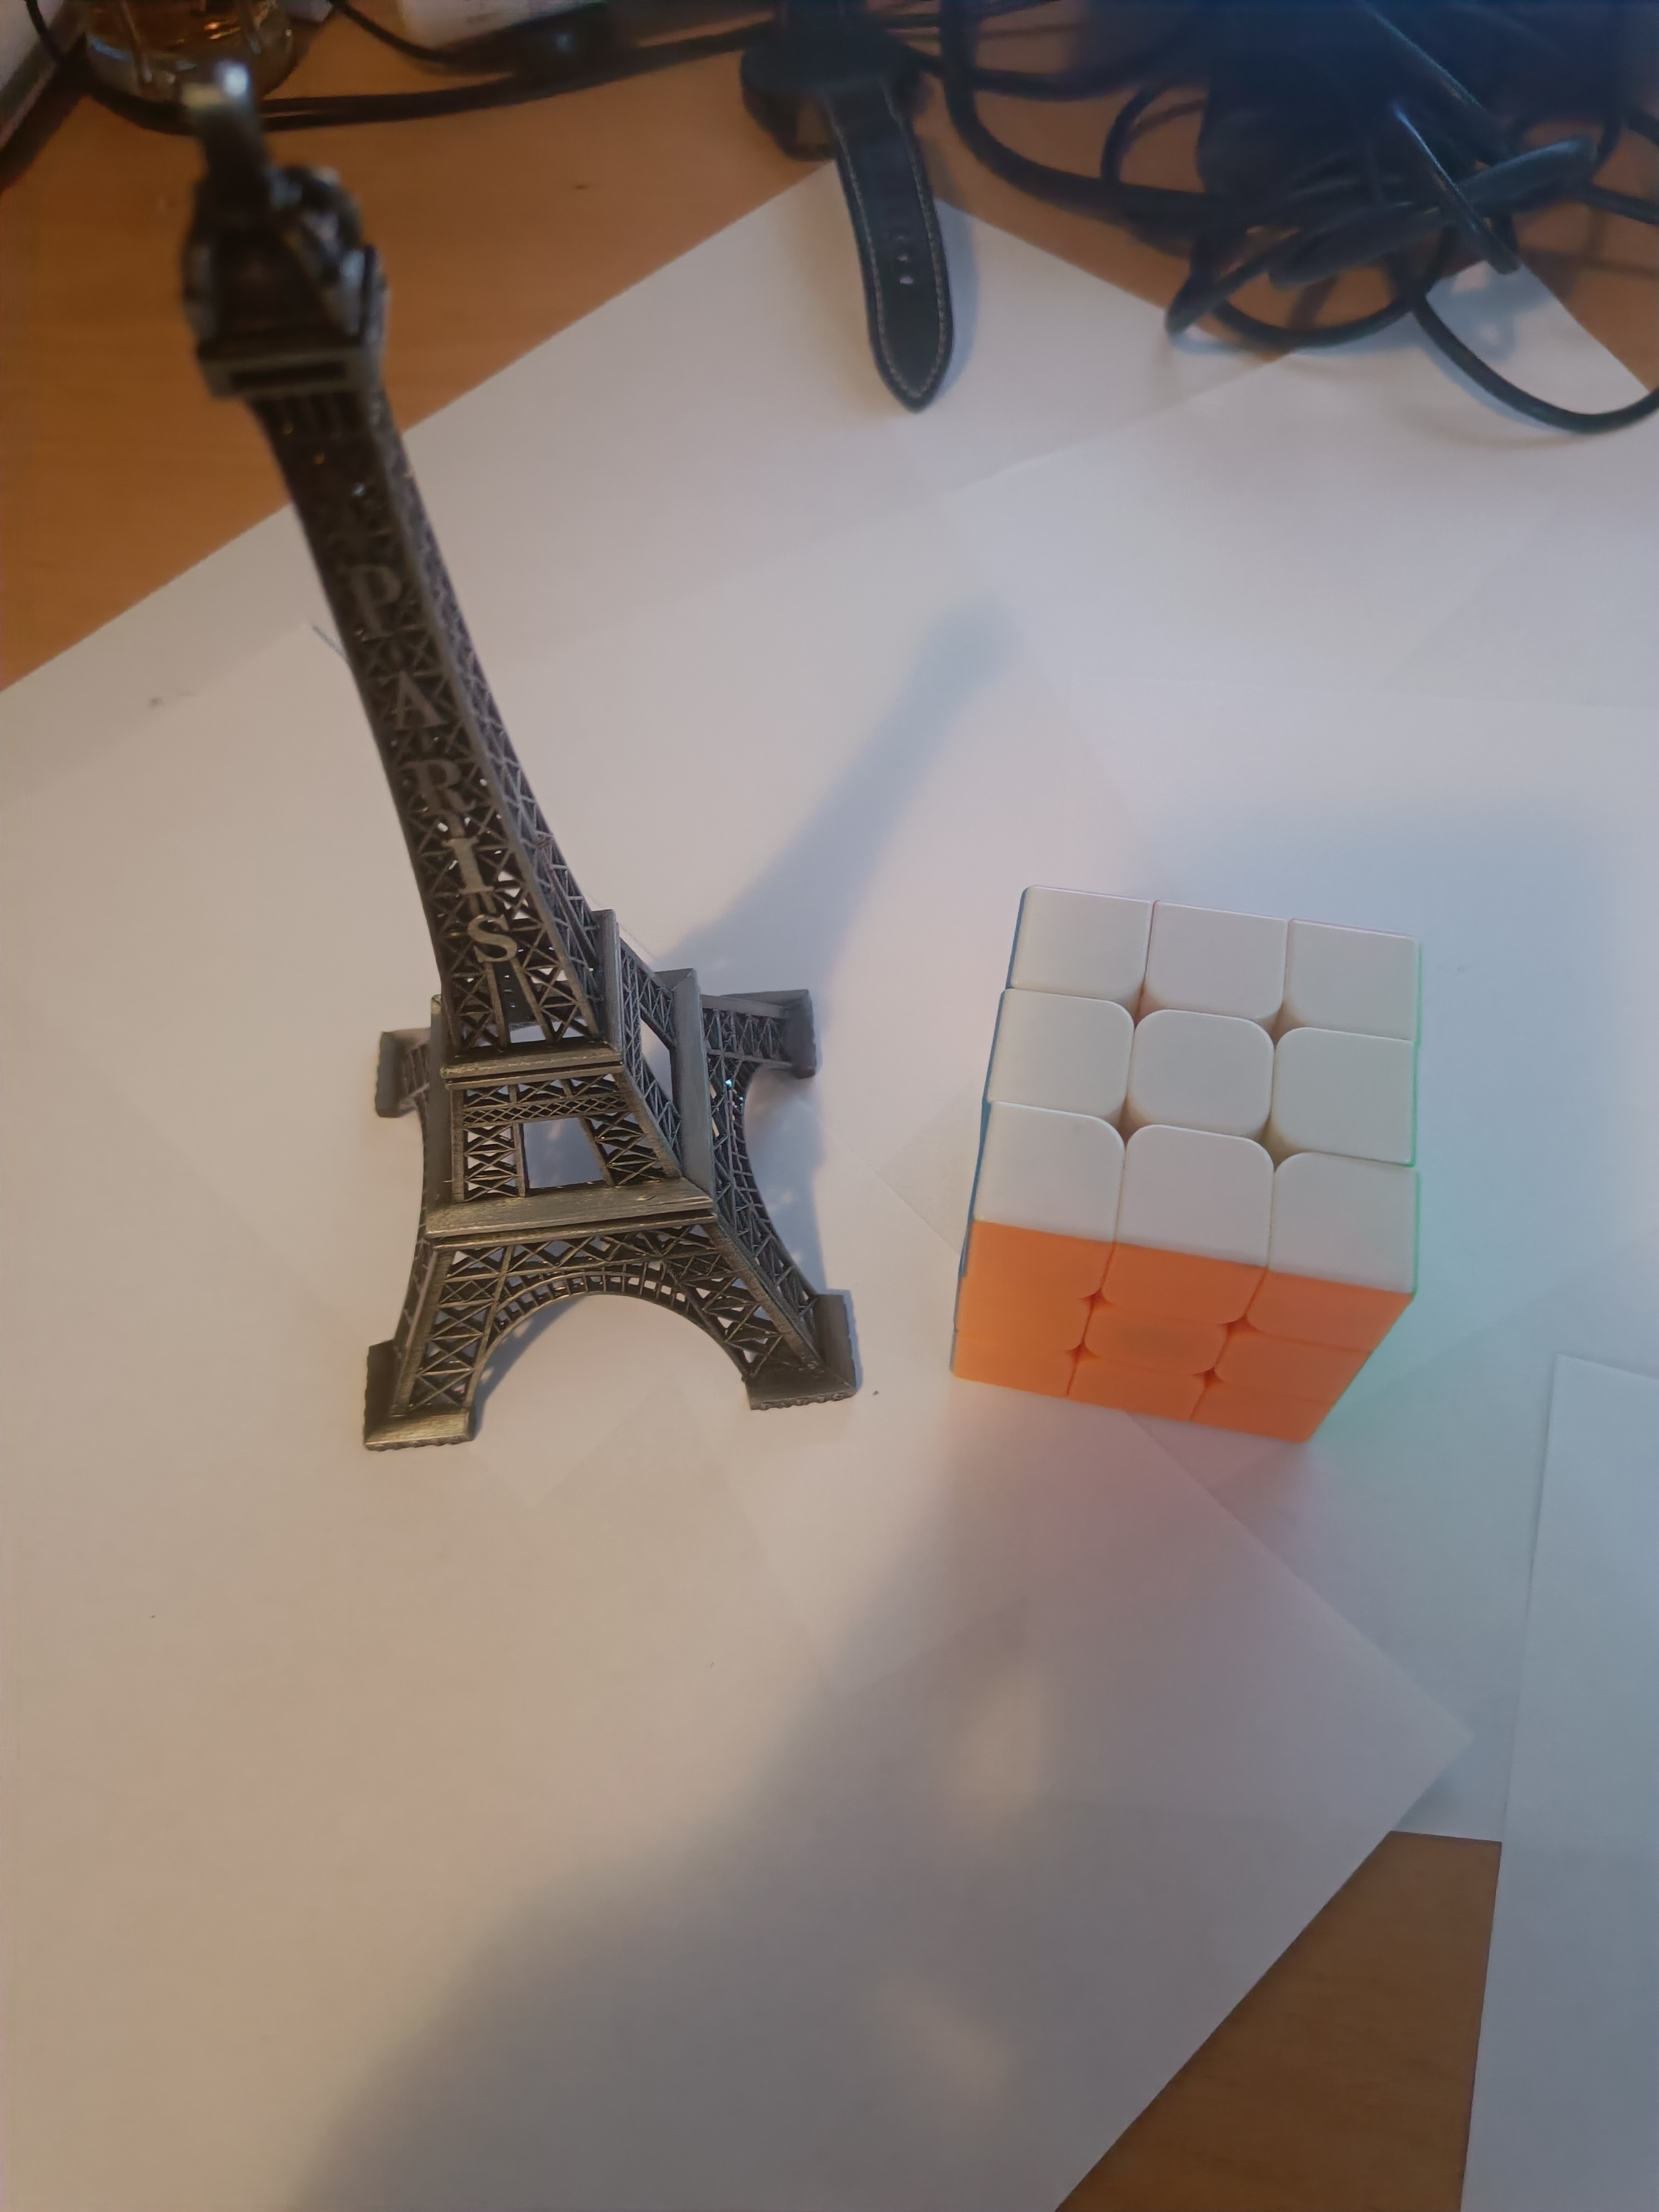Eiffel Tower: (131, 42, 880, 1463)
Rubiks Cube: (922, 864, 1446, 1453)
